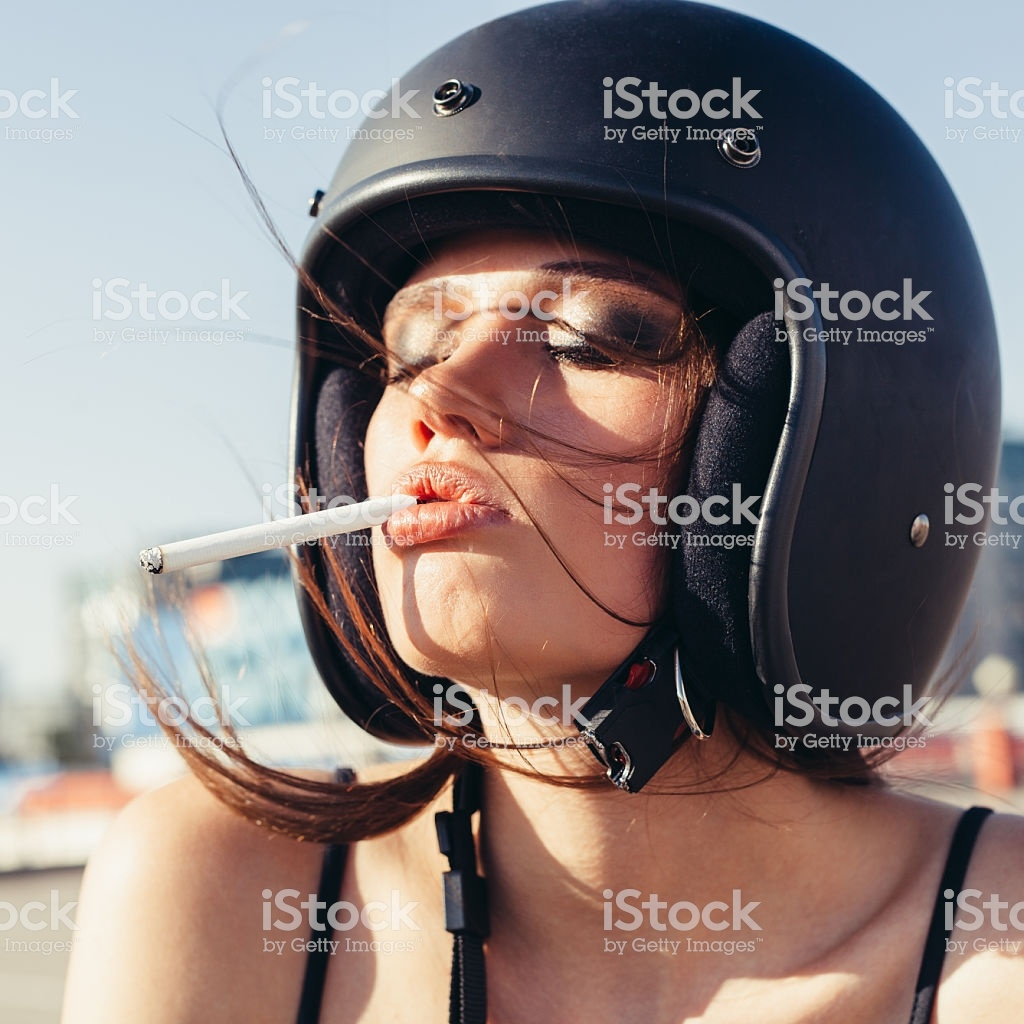sigaretta: (145, 489, 409, 588)
